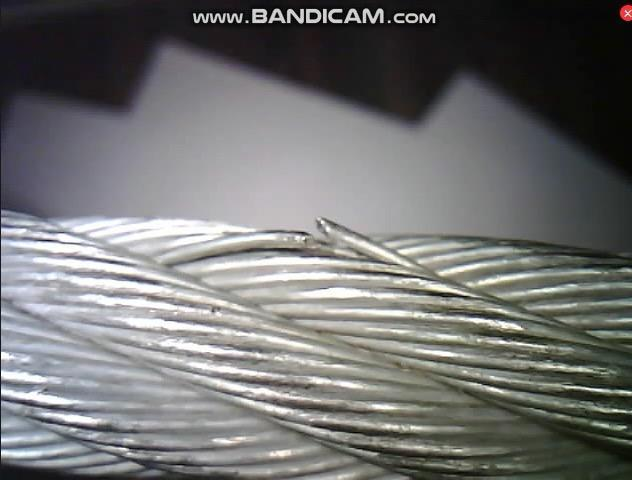break: (237, 200, 387, 274)
